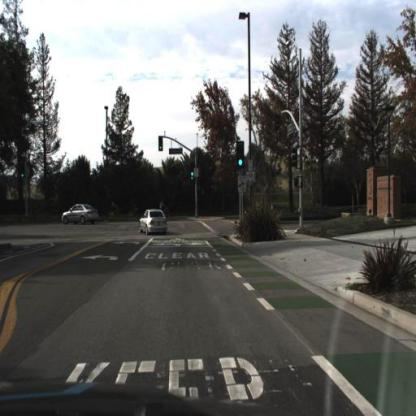biker: (105, 198, 125, 222), (157, 200, 170, 213), (131, 196, 136, 221), (161, 201, 168, 217)
car: (63, 203, 101, 227), (139, 209, 170, 237)
trafficLight: (190, 166, 197, 184), (191, 165, 196, 181)
trafficLight-Green: (236, 141, 246, 172), (236, 140, 246, 169)
trafficLight-GreenLeft: (159, 136, 165, 152), (160, 136, 164, 154)
